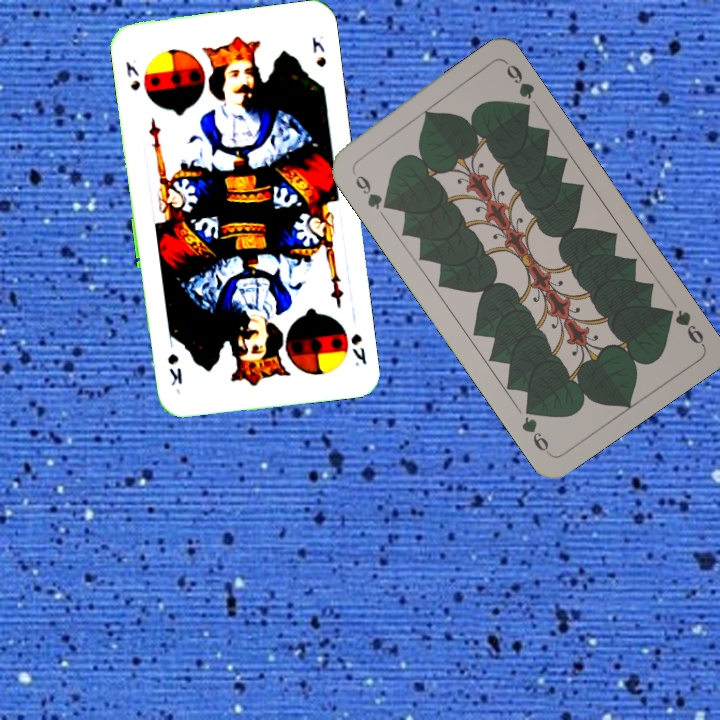G9: (348, 165, 394, 212), (658, 304, 707, 348)
SK: (347, 329, 369, 369), (122, 56, 143, 93)
